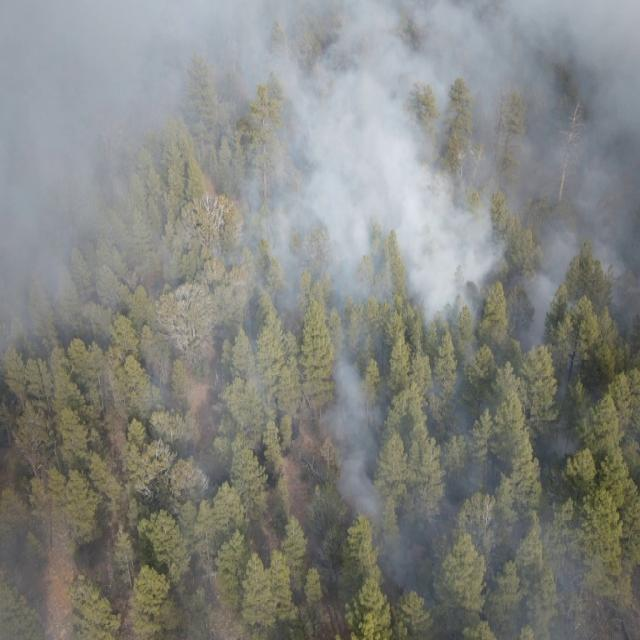smoke: (0, 0, 640, 309), (0, 456, 295, 640), (448, 316, 609, 640), (295, 310, 436, 604), (140, 308, 295, 458)
